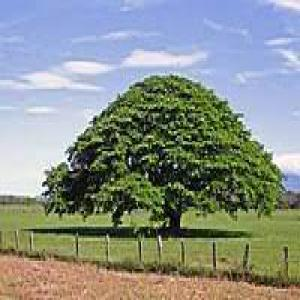Tree: (41, 71, 285, 236)
